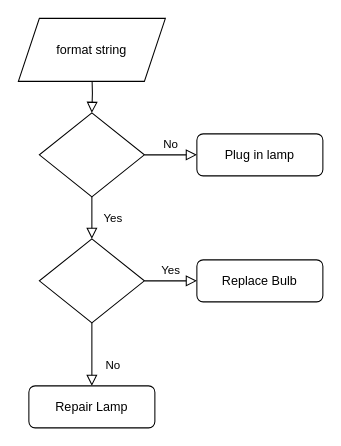
Some shapes in this 341 by 446 pixel diagram are drawn without their labels. The shapes that lost their labels are listed below. From the top down, each one's centre as x and y in pixels, then its label:
At point 91,154: "Lamp plugged in?".
At point 91,280: "Bulb burned out?".
